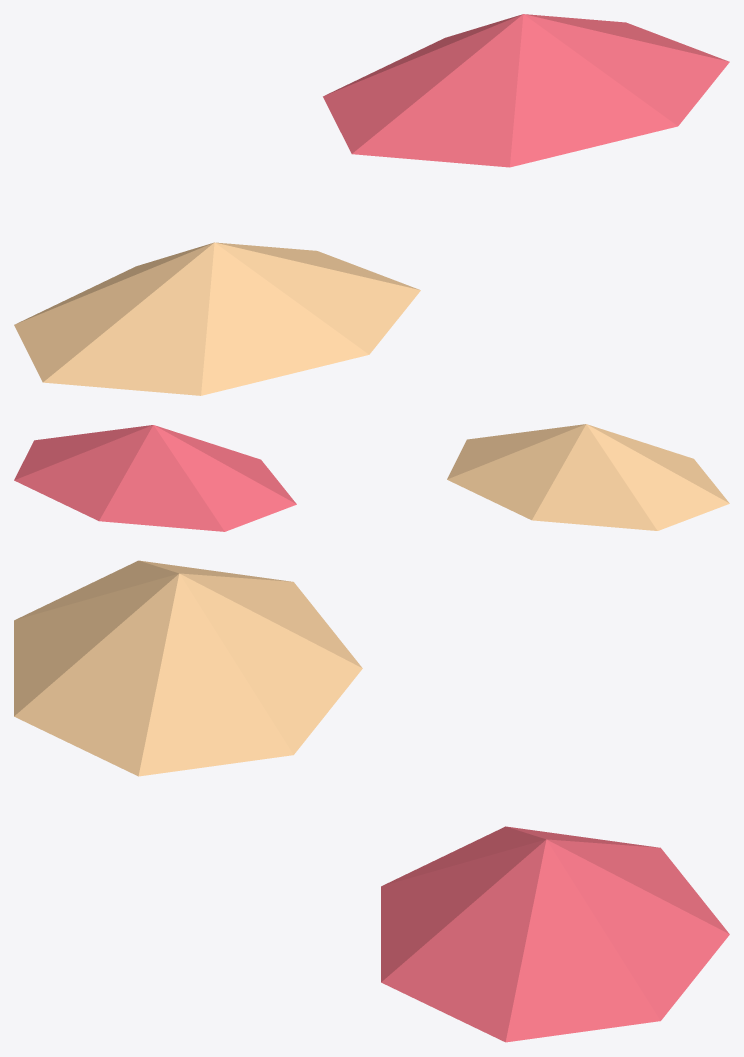
Rendered from decor_shell.glb.
The picture shows the model from 3 angles, top to bottom: view 1: azimuth 30°, elevation 25°; view 2: azimuth 150°, elevation 25°; view 3: azimuth 270°, elevation 25°; orthographic projection. The views are drawn at different scales.
Visible parts, largest first — view 1: decor_shell; view 2: decor_shell; view 3: decor_shell.
Boxes of the visible parts, <box> form: decor_shell: <box>14,14,729,395</box>; decor_shell: <box>14,424,729,531</box>; decor_shell: <box>14,560,729,1042</box>.
Bounding box in the file's own units: 0.2175 × 0.02 × 0.1365.
